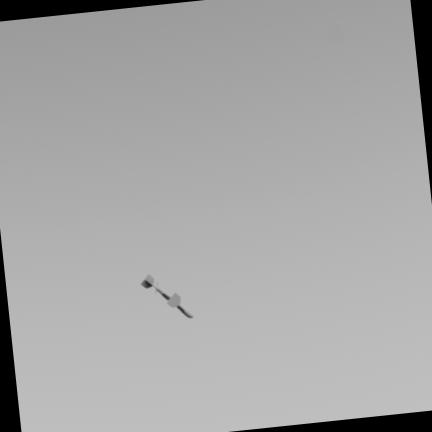Shahed: (142, 275, 193, 318)
